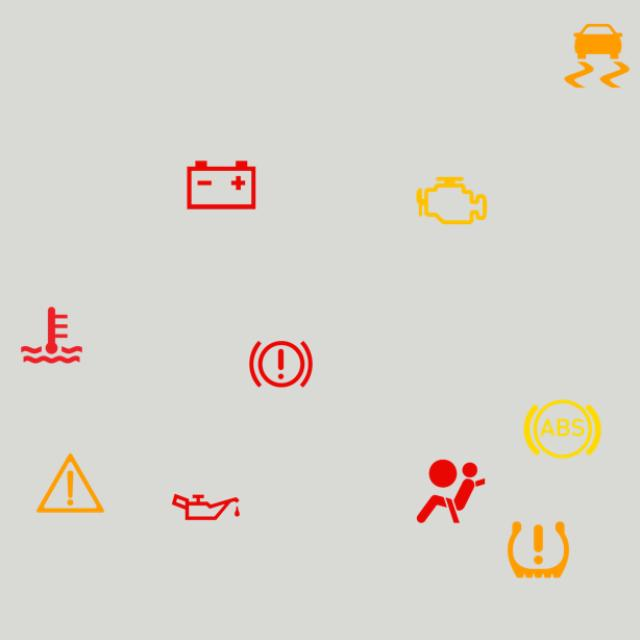Anti Lock Braking System: (520, 387, 605, 471)
Braking System Issue: (239, 322, 323, 407)
Charging System Issue: (179, 143, 264, 227)
Check Engine: (410, 158, 494, 243)
Electronic Stability Problem -ESP-: (554, 14, 639, 98)
Engine Overheating Warning Light: (9, 293, 94, 377)
Low Engine Oil Warning Light: (164, 465, 248, 549)
Low Tire Pressure Warning Light: (496, 508, 581, 592)
Master warning light: (28, 441, 113, 525)
SRS-Airbag: (409, 449, 493, 534)
